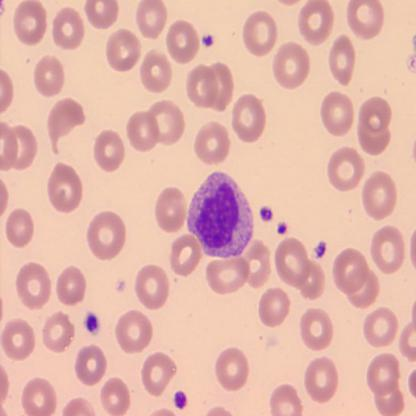Metamyelocyte: (184, 168, 256, 260)
